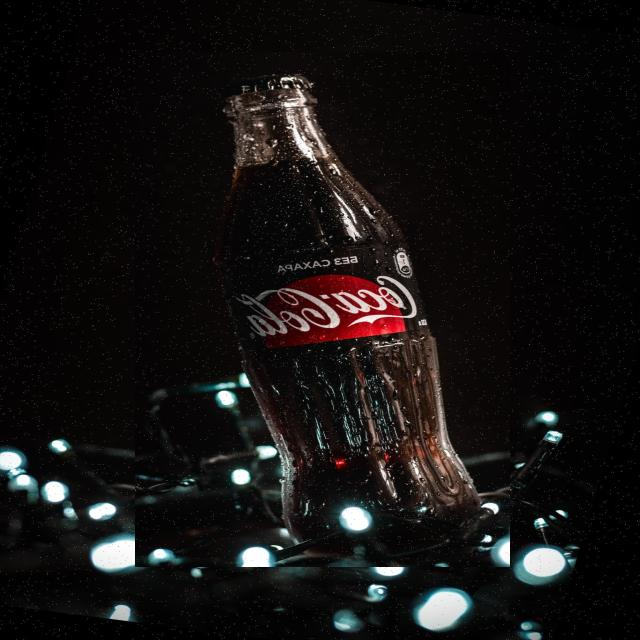coca-cola: (135, 52, 510, 567)
